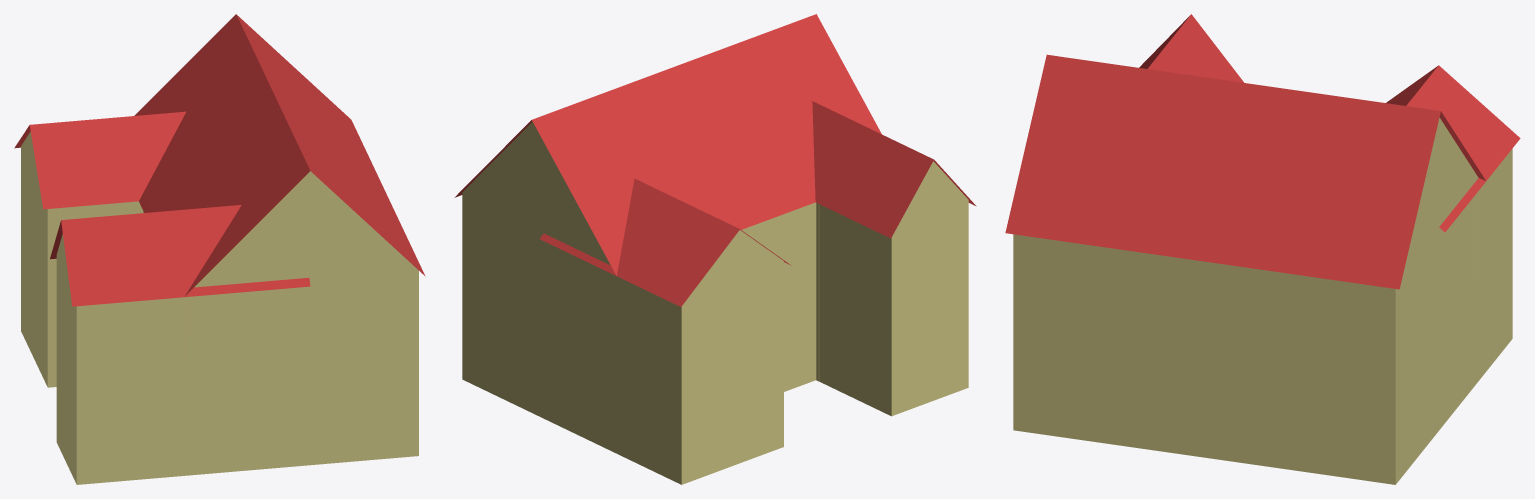
3 renders of one model, left to right at view 1: azimuth 30°, elevation 25°; view 2: azimuth 150°, elevation 25°; view 3: azimuth 270°, elevation 25°, orthographic. The views are drawn at different scales.
Size of the model in its own units: 19.9 by 20.17 by 14.07.
